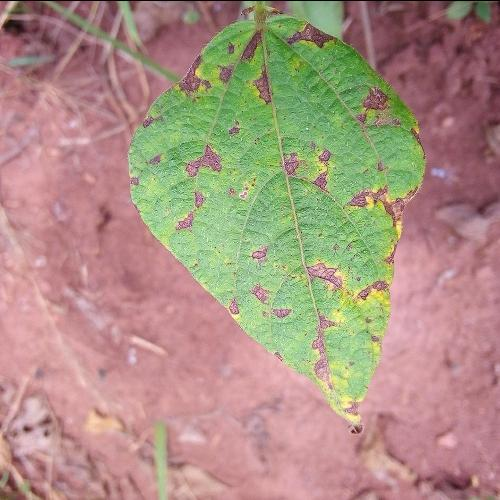mozaik: (203, 26, 429, 435)
